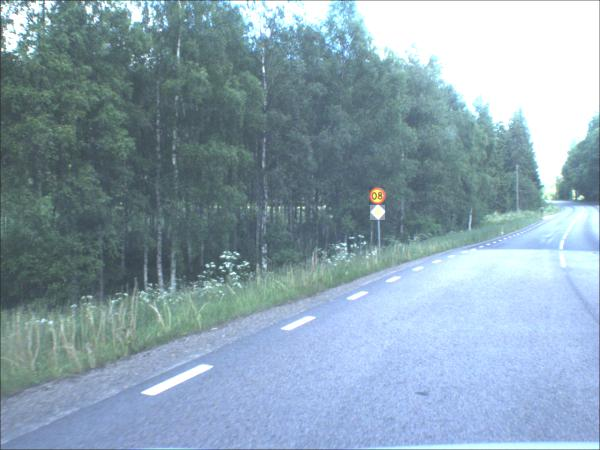80_SIGN: (369, 188, 386, 206)
PRIORITY_ROAD: (370, 206, 386, 222)
